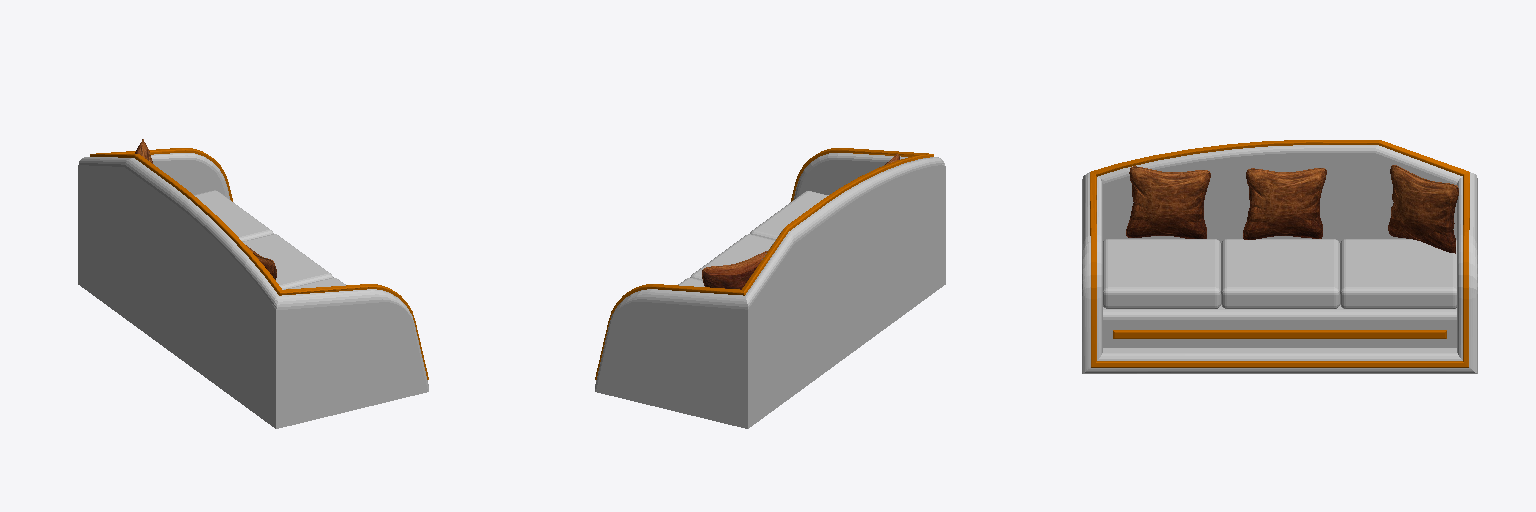
3 renders of one model, left to right at view 1: azimuth 30°, elevation 25°; view 2: azimuth 150°, elevation 25°; view 3: azimuth 270°, elevation 25°, orthographic.
Parts seen in each view (by area): view 1: Cube_Cube.007, Cube.001_Cube.008; view 2: Cube_Cube.007, Cube.001_Cube.008, Cushion.003_Cube.019; view 3: Cube_Cube.007, Cube.001_Cube.008, Cushion.002_Cube.009, Cushion.004_Cube.020, Cushion.003_Cube.019.
Boxes of the visible parts, <box> form: Cube_Cube.007: <box>78,148,428,428</box>; Cube.001_Cube.008: <box>194,190,345,289</box>; Cube_Cube.007: <box>595,148,945,428</box>; Cube.001_Cube.008: <box>678,191,828,286</box>; Cushion.003_Cube.019: <box>702,251,767,289</box>; Cube_Cube.007: <box>1082,140,1477,373</box>; Cube.001_Cube.008: <box>1103,239,1456,308</box>; Cushion.002_Cube.009: <box>1126,166,1210,238</box>; Cushion.004_Cube.020: <box>1243,168,1326,239</box>; Cushion.003_Cube.019: <box>1388,165,1458,253</box>.
Bounding box in the file's own units: 8.41 × 8.34 × 18.28.
3 materials, 1 textured.